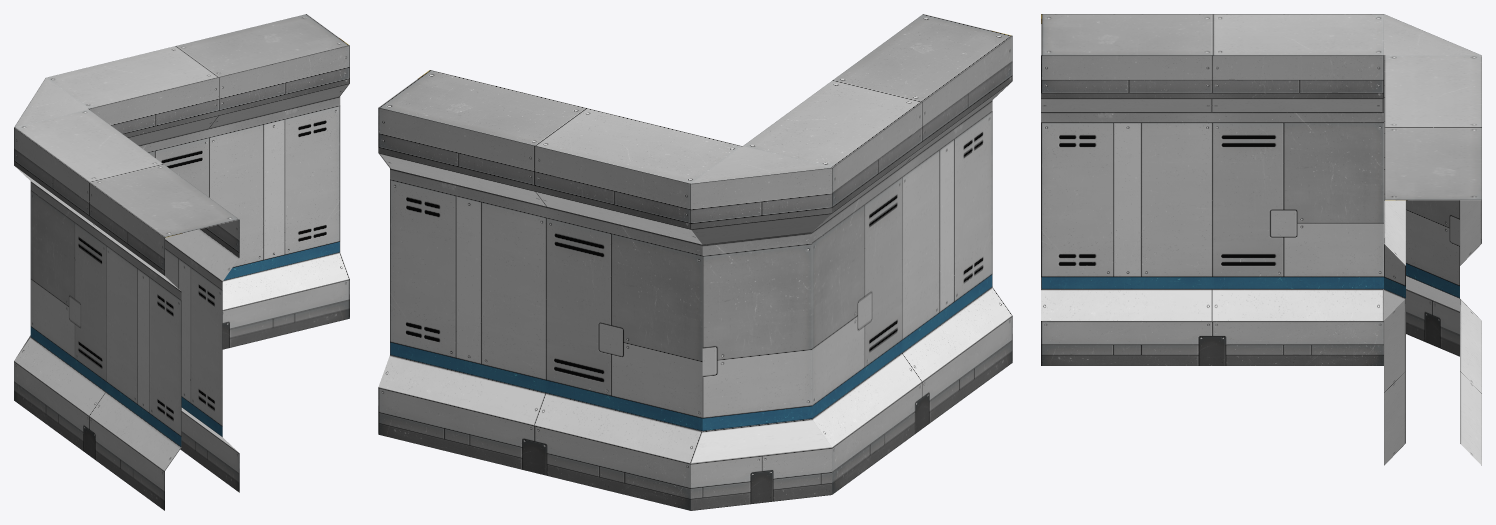
The model's file is Corner_Short_02.FBX.
3 views of the same model, side by side, from view 1: azimuth 30°, elevation 25°; view 2: azimuth 150°, elevation 25°; view 3: azimuth 270°, elevation 25° (orthographic). The views are drawn at different scales.
Visible parts, largest first — view 1: Corner_Short_02; view 2: Corner_Short_02; view 3: Corner_Short_02.
Part boxes in pixels (bbox=[...]): Corner_Short_02: bbox=[14, 14, 349, 510]; Corner_Short_02: bbox=[378, 14, 1012, 510]; Corner_Short_02: bbox=[1041, 14, 1481, 465].
Bounding box in the file's own units: 180 × 140 × 180.
